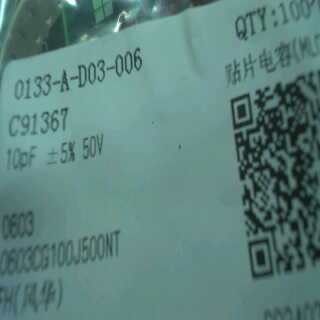10pF: (4, 138, 41, 177)
